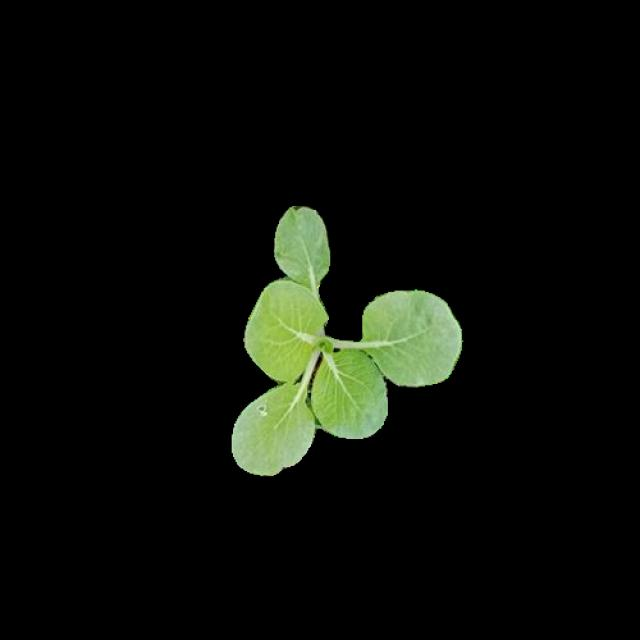healthy: (225, 205, 461, 470)
not-mature: (225, 206, 461, 471)
